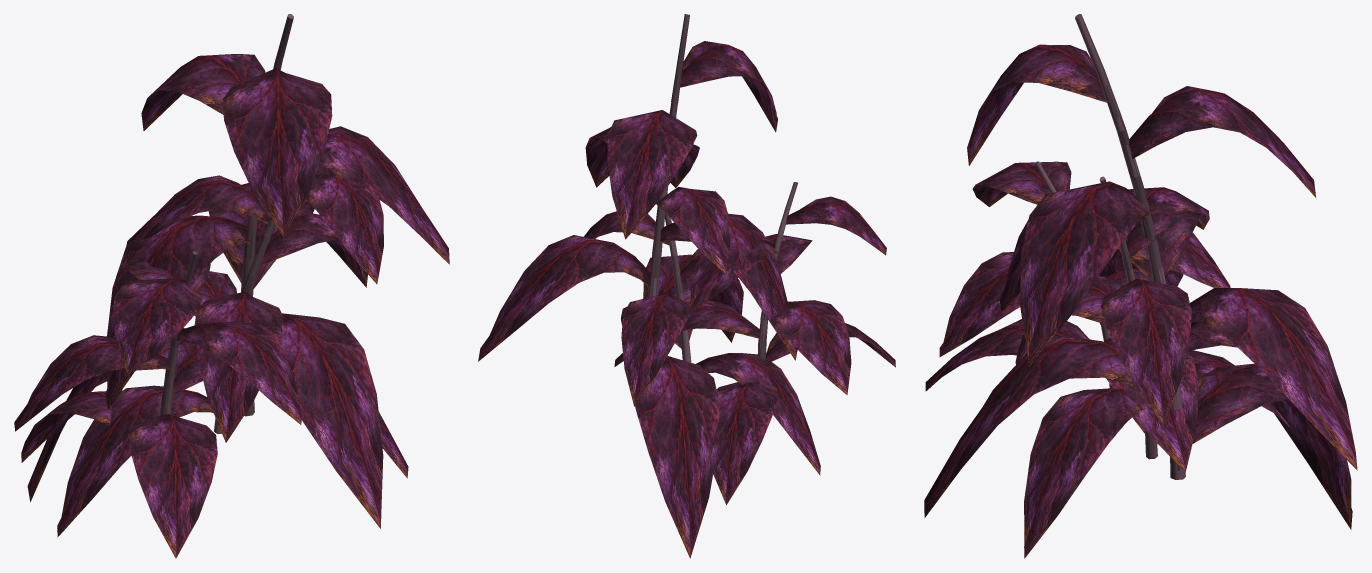
The model's file is broadgrass_10.glb.
The picture shows the model from 3 angles, left to right: view 1: azimuth 30°, elevation 25°; view 2: azimuth 150°, elevation 25°; view 3: azimuth 270°, elevation 25°; orthographic projection. The views are drawn at different scales.
Parts seen in each view (by area): view 1: export; view 2: export; view 3: export.
Part boxes in pixels (box(x1,y1,x2,y2)): export: box(14, 14, 449, 558); export: box(478, 14, 895, 558); export: box(924, 14, 1357, 558).
Size of the model in its own units: 0.7922 by 1.11 by 0.749.
Materials: 2 (2 with a texture image).
